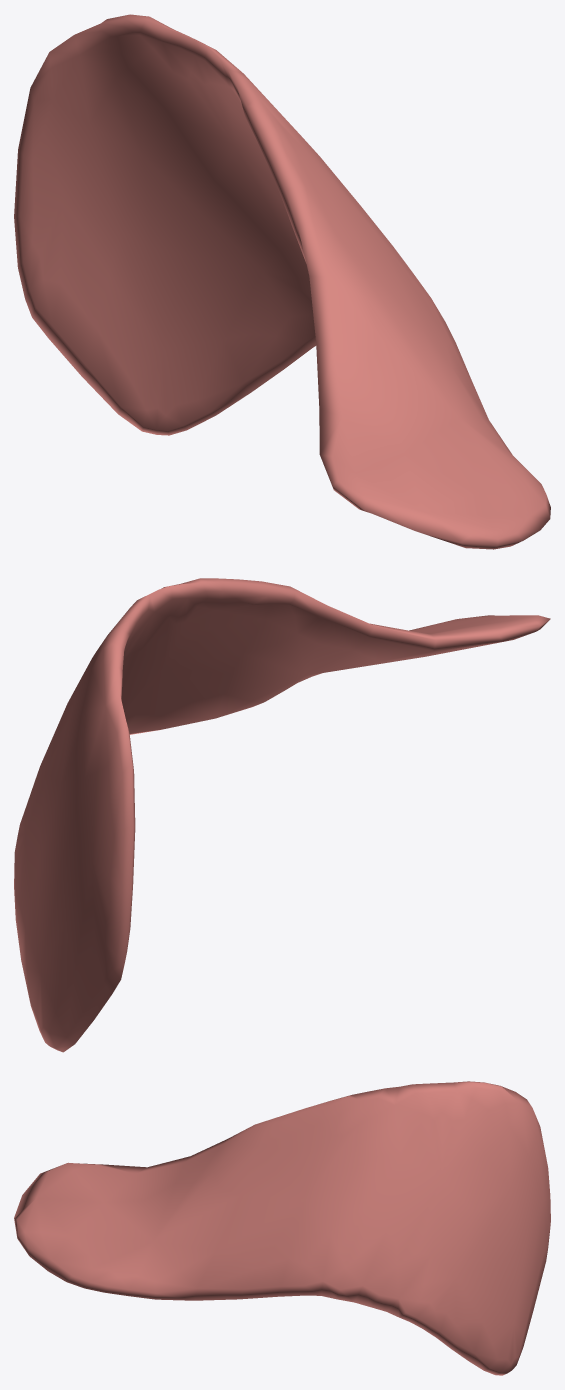
3 views of the same model, one above another, from view 1: azimuth 30°, elevation 25°; view 2: azimuth 150°, elevation 25°; view 3: azimuth 270°, elevation 25° (orthographic). The views are drawn at different scales.
Visible parts, largest first — view 1: ZA_1a20fba7a5ed5e4d; view 2: ZA_1a20fba7a5ed5e4d; view 3: ZA_1a20fba7a5ed5e4d.
Part boxes in pixels (x1,y1,x2,y2): ZA_1a20fba7a5ed5e4d: (14,14,550,549); ZA_1a20fba7a5ed5e4d: (14,578,550,1052); ZA_1a20fba7a5ed5e4d: (14,1081,550,1375).
Bounding box in the file's own units: 0.0073 × 0.0102 × 0.0177.
